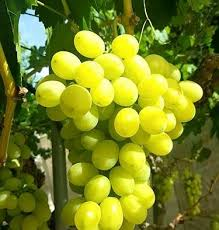Green grapes: (47, 25, 189, 230)
